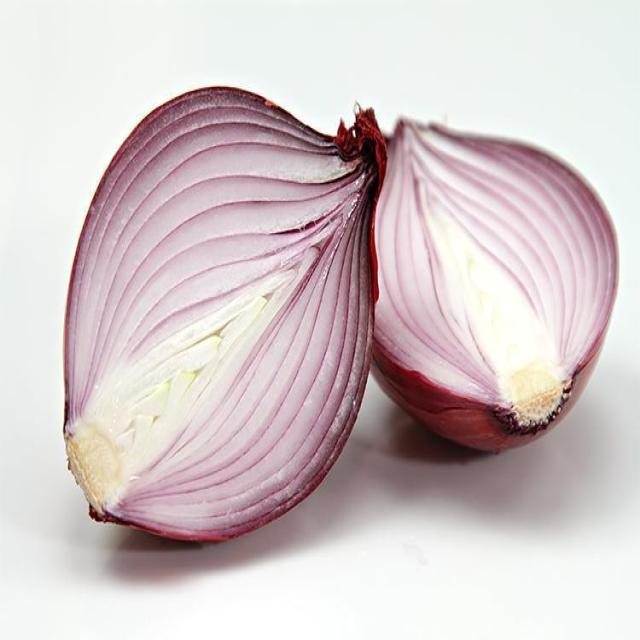Onion: (62, 86, 388, 546), (368, 114, 618, 452)
